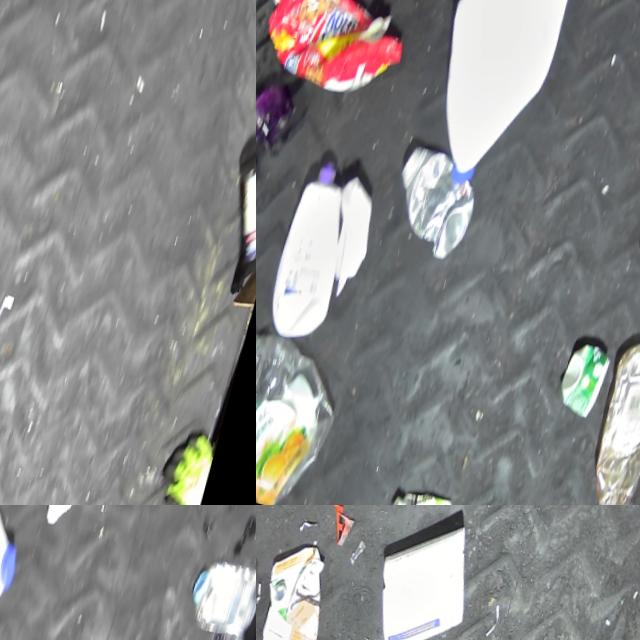can: (559, 325, 624, 433), (223, 148, 256, 267)
milk_jug: (409, 0, 593, 201)
non_white_jug: (256, 539, 341, 640)
plastic_bottle: (185, 551, 256, 638)
